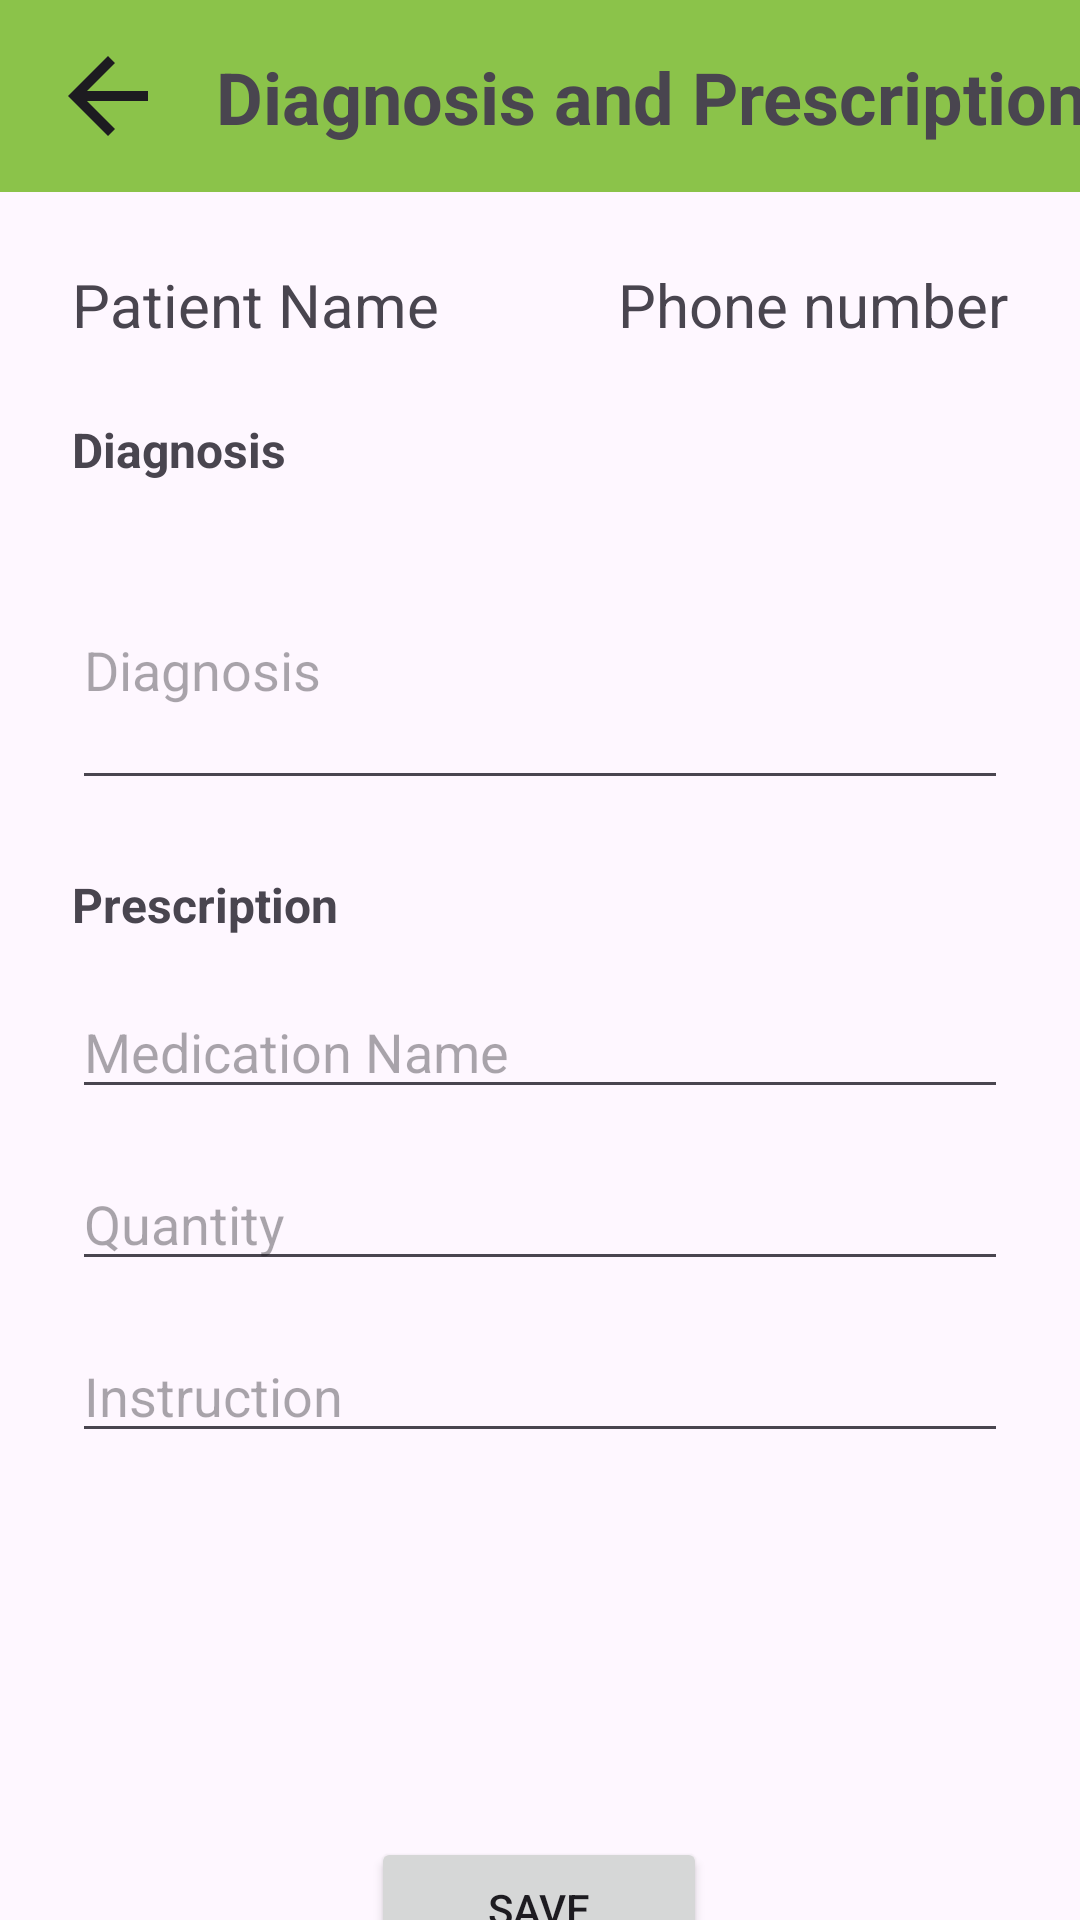

Where to tap for icons on this 1080 x 1920 app screen, as (x,y):
Back to previous activity: (108,96)
